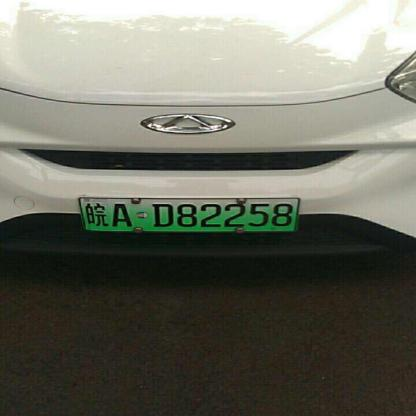lp: (78, 197, 301, 230)
